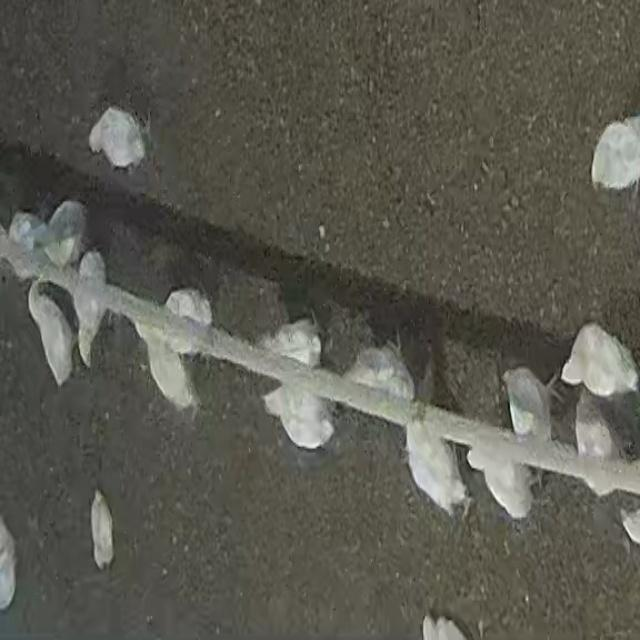chicken: (403, 420, 469, 519), (130, 323, 197, 413), (559, 321, 635, 397), (265, 379, 337, 452), (467, 447, 540, 518), (25, 280, 74, 384), (574, 393, 622, 496), (499, 363, 555, 441), (159, 286, 218, 354), (344, 346, 413, 403), (77, 246, 109, 367), (91, 105, 147, 171), (592, 120, 640, 194), (258, 320, 328, 369), (48, 199, 89, 271), (8, 212, 47, 281), (88, 488, 115, 568)
